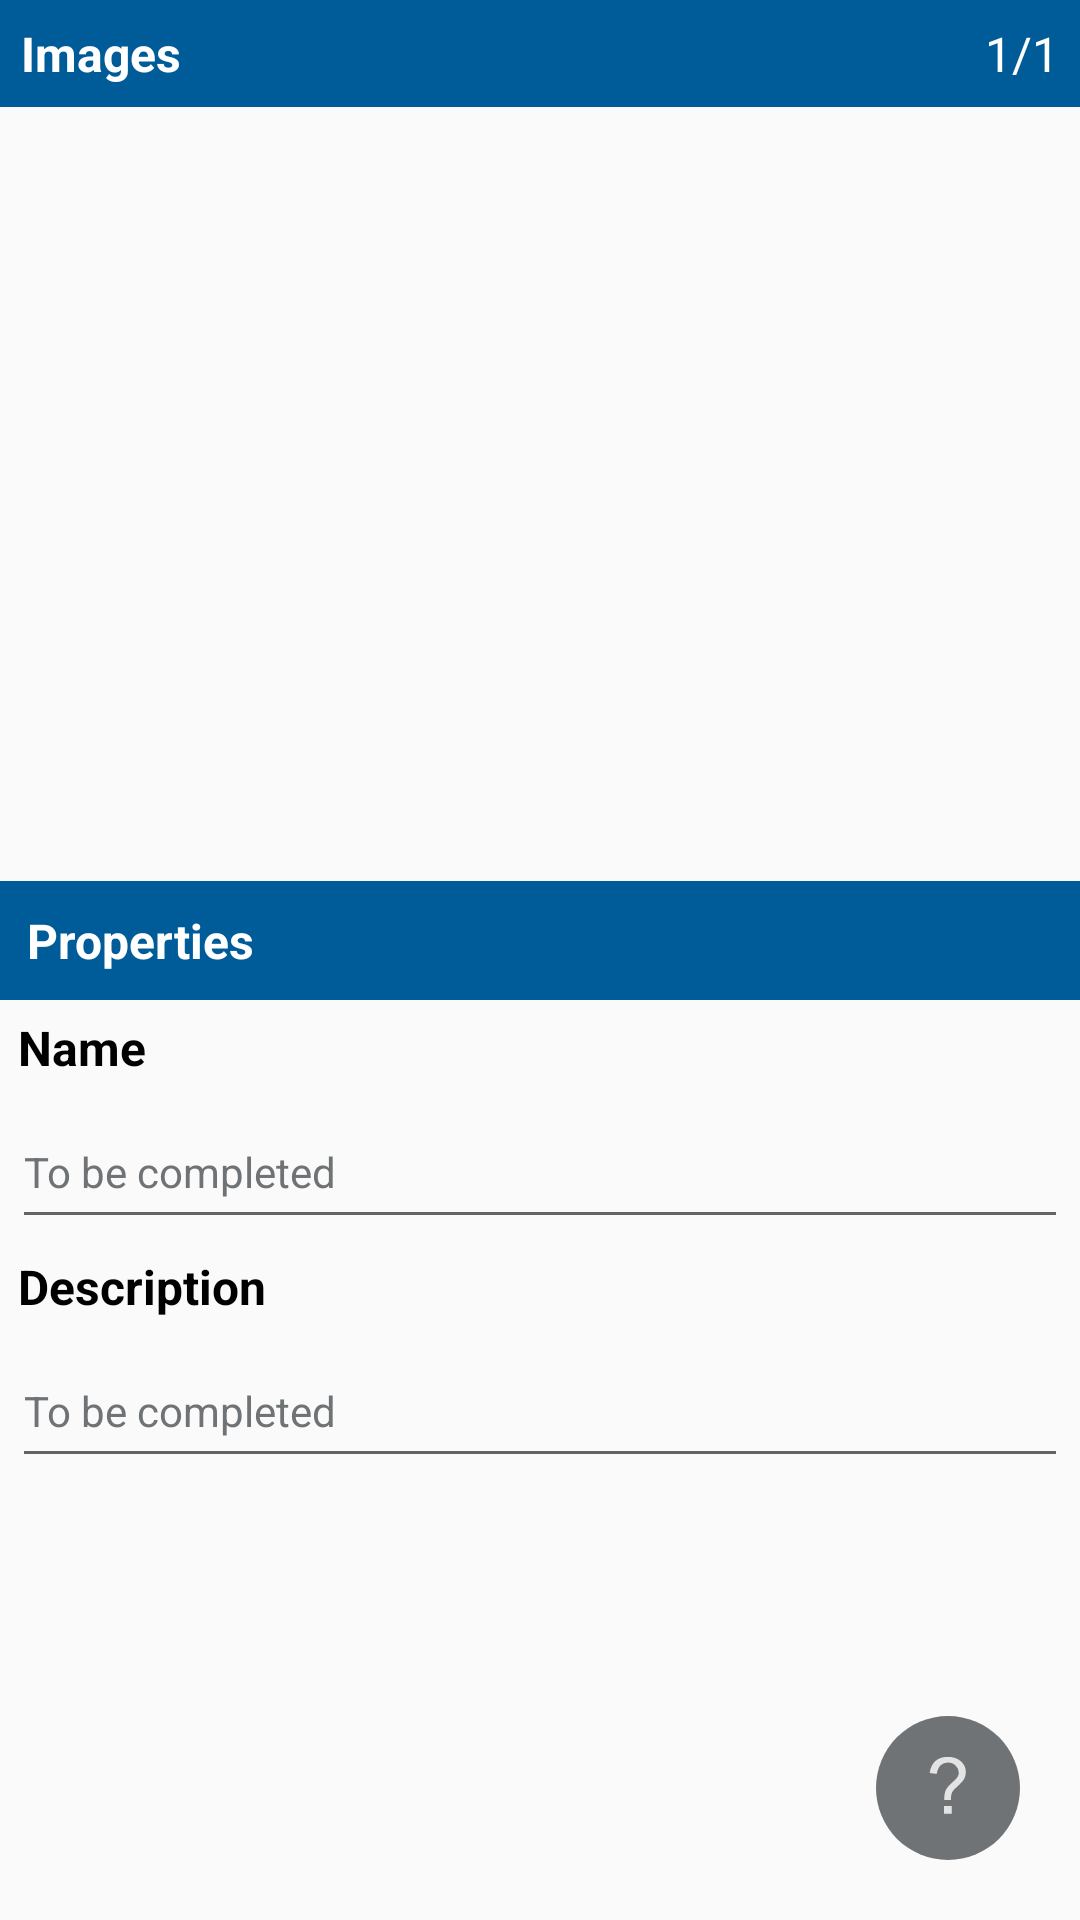

Icons on this 1080x1920 Android screen, each with its box as (left=x1, top=y1, right=x2, bottom=y2):
Help: (left=876, top=1716, right=1020, bottom=1860)
